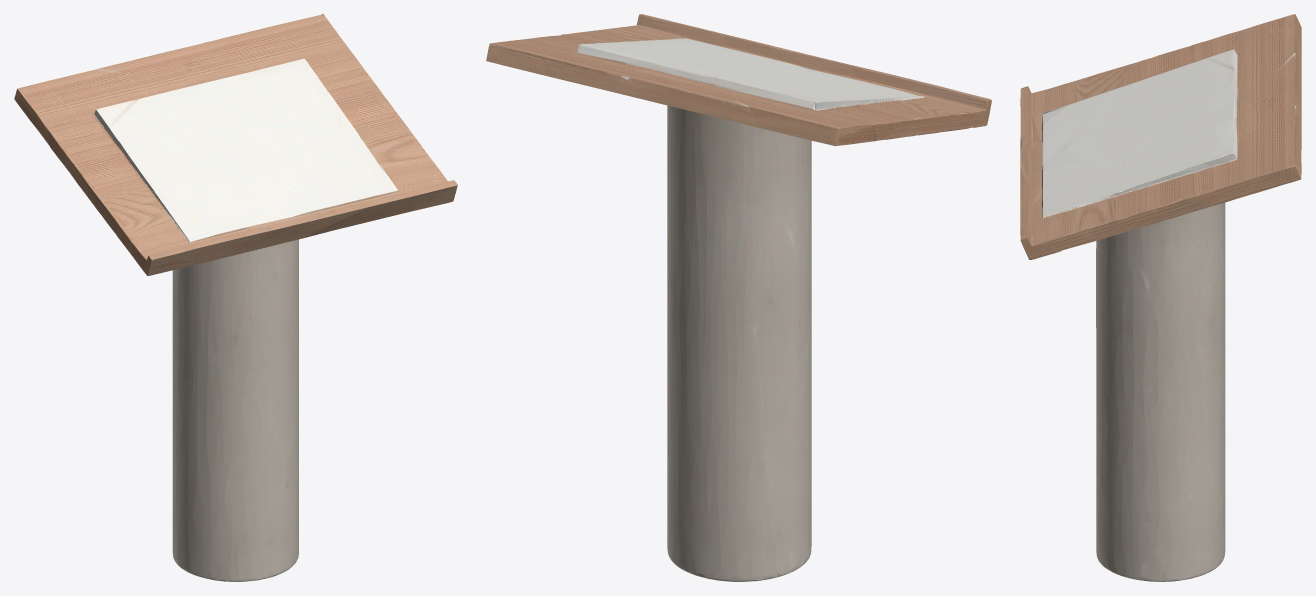
Rendered from mapstand.glb.
3 renders of one model, left to right at view 1: azimuth 30°, elevation 25°; view 2: azimuth 150°, elevation 25°; view 3: azimuth 270°, elevation 25°, orthographic. The views are drawn at different scales.
Visible parts, largest first — view 1: Mesh_0; view 2: Mesh_0; view 3: Mesh_0.
Boxes of the visible parts, x1,y1,x2,y2 form: Mesh_0: (14,14,457,581); Mesh_0: (486,14,991,581); Mesh_0: (1020,14,1301,581).
Bounding box in the file's own units: 1.33 × 1.9 × 1.04.
1 material, 1 textured.
